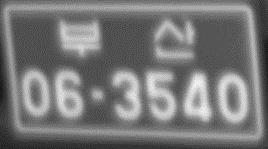-: (90, 86, 105, 104)
0: (216, 70, 249, 126), (20, 67, 52, 118)
3: (110, 65, 143, 123)
4: (181, 70, 213, 124)
5: (144, 67, 178, 123)
6: (52, 67, 84, 122)
부산_D: (55, 15, 197, 62)
